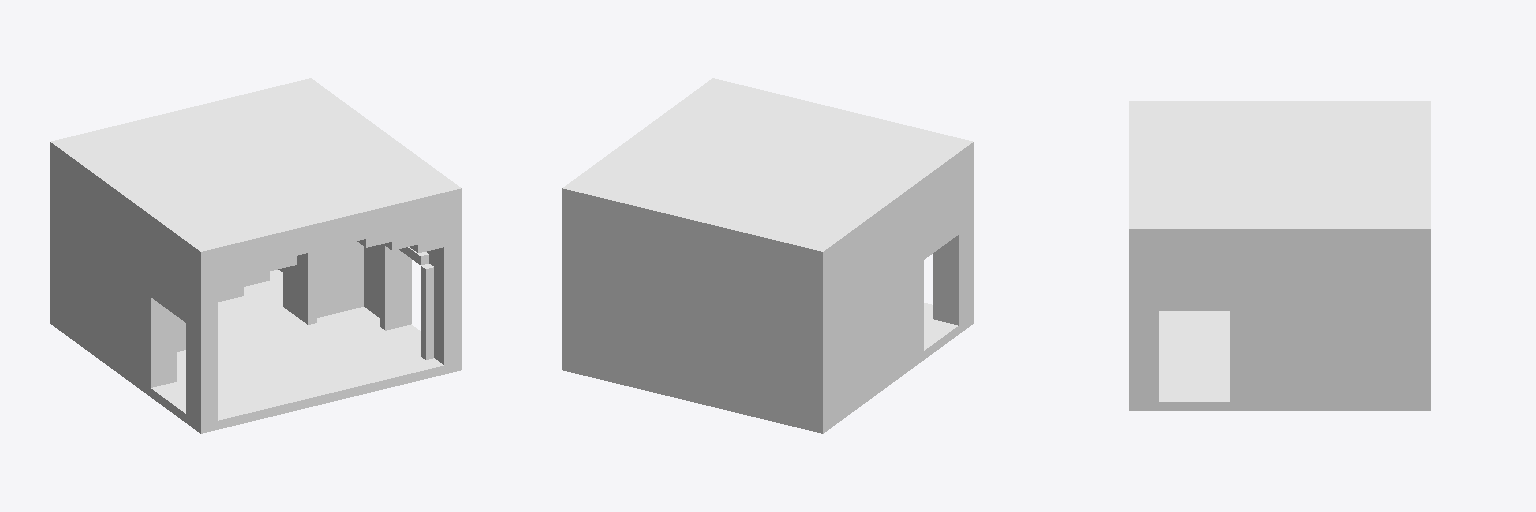
File: Volt-2.obj
The picture shows the model from 3 angles: view 1: azimuth 30°, elevation 25°; view 2: azimuth 150°, elevation 25°; view 3: azimuth 270°, elevation 25°; orthographic projection.
Visible parts, largest first — view 1: object 1; view 2: object 1; view 3: object 1.
Part boxes in pixels (left/top/right/bottom): object 1: left=50, top=78, right=461, bottom=433; object 1: left=562, top=78, right=973, bottom=433; object 1: left=1129, top=101, right=1430, bottom=410.
Bounding box in the file's own units: 3 × 2 × 3.